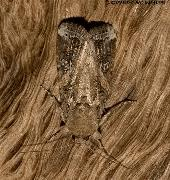army worm adult: (21, 10, 140, 175)
